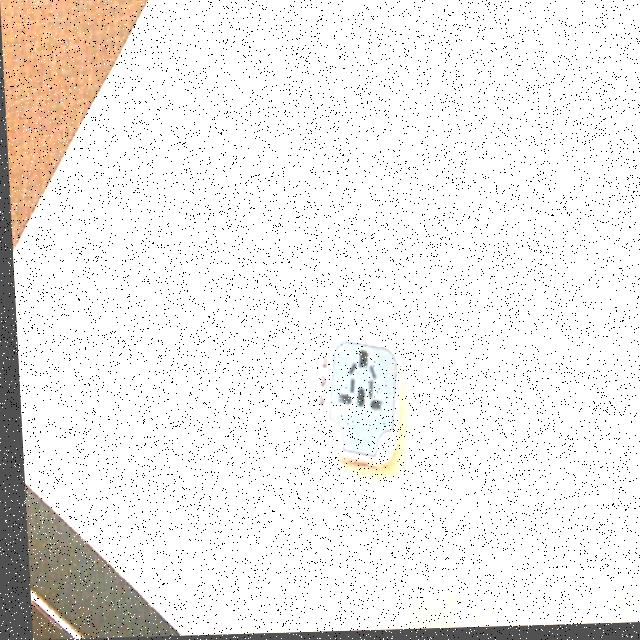adapter: (311, 335, 400, 469)
